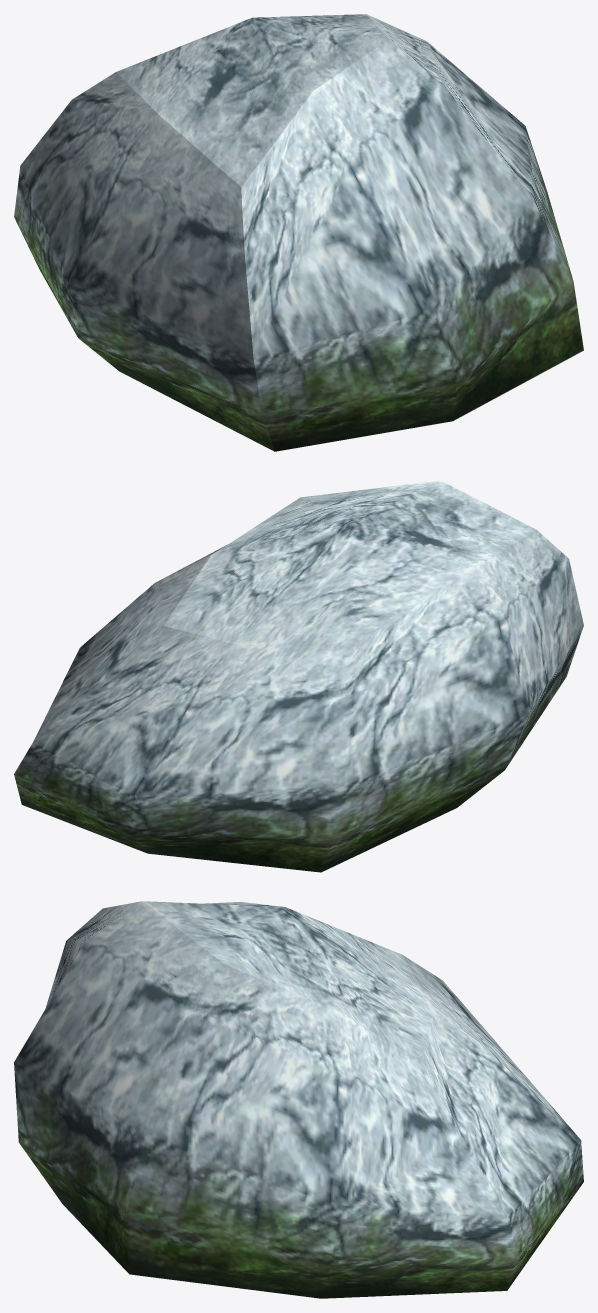
File: STONE1.glb
3 renders of one model, top to bottom at view 1: azimuth 30°, elevation 25°; view 2: azimuth 150°, elevation 25°; view 3: azimuth 270°, elevation 25°, orthographic. The views are drawn at different scales.
Parts seen in each view (by area): view 1: STONE1; view 2: STONE1; view 3: STONE1.
Part boxes in pixels (left/top/right/bottom): STONE1: left=14, top=14, right=583, bottom=451; STONE1: left=14, top=480, right=583, bottom=872; STONE1: left=14, top=901, right=583, bottom=1298.
Bounding box in the file's own units: 2.34 × 1.38 × 2.64.
Materials: 2 (2 with a texture image).
